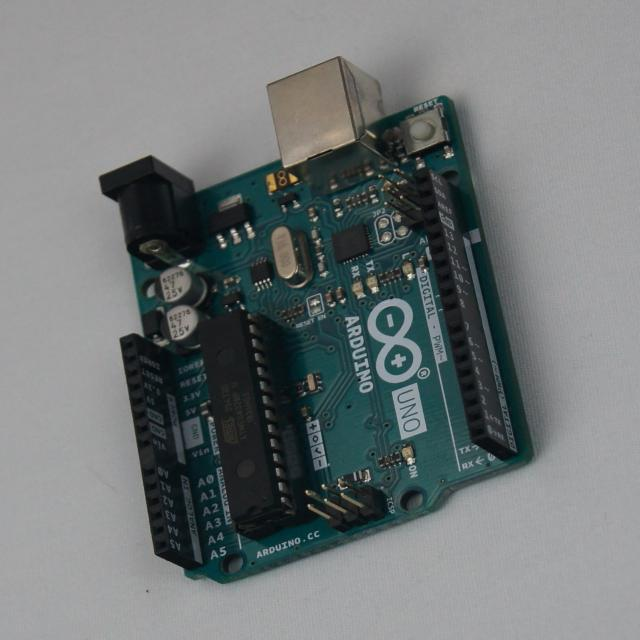Arduino Uno -Green-: (101, 58, 532, 583)
